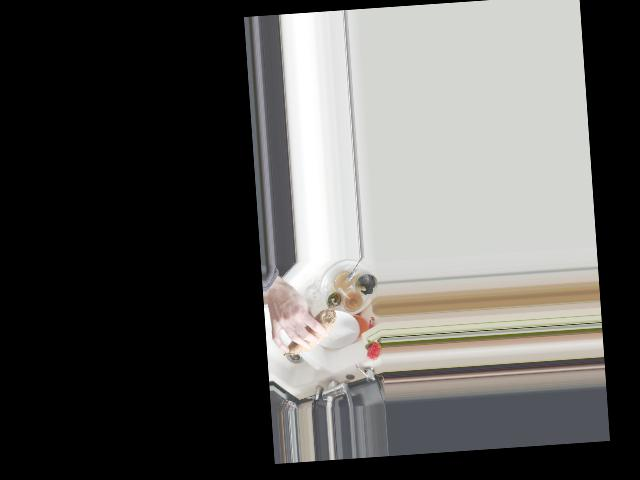sweet_potato: (279, 308, 337, 355)
